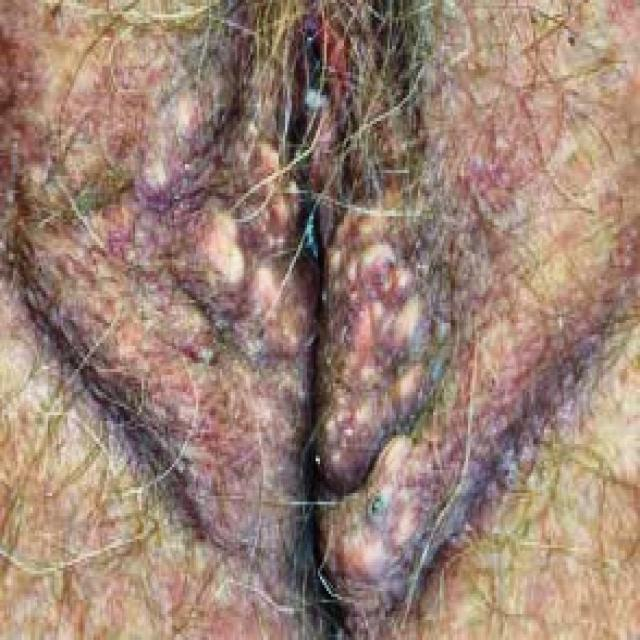Seborrheic-Keratoses-and-other-Benign-Tumors: (161, 9, 529, 634)
